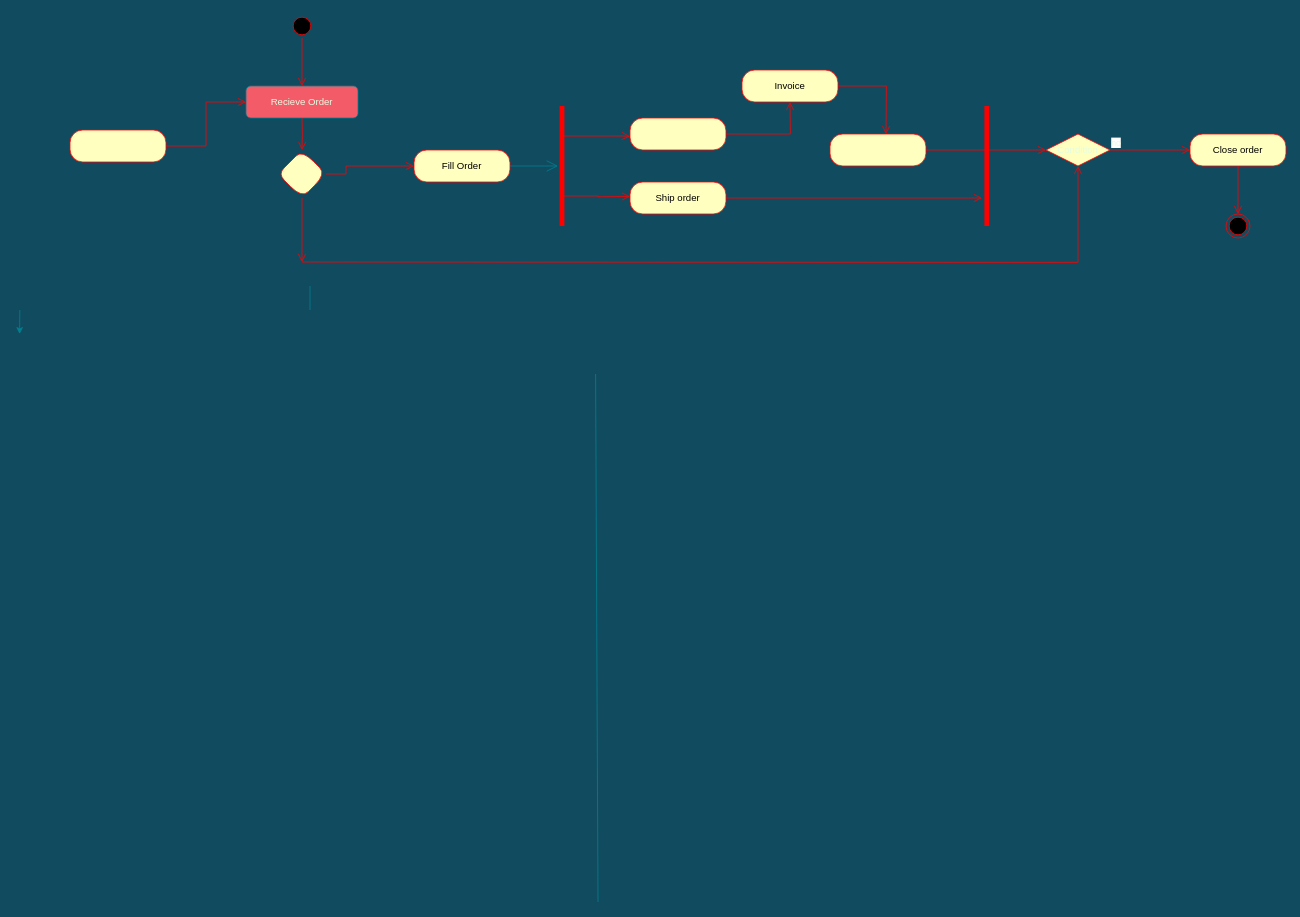
Image size: 1300x917. Some labels were removed from this diagram. Each missing label, with the box of its shape:
Accept Payment: (829, 133, 926, 166)
Requested Order: (69, 129, 166, 162)
send invoice: (629, 117, 726, 150)
